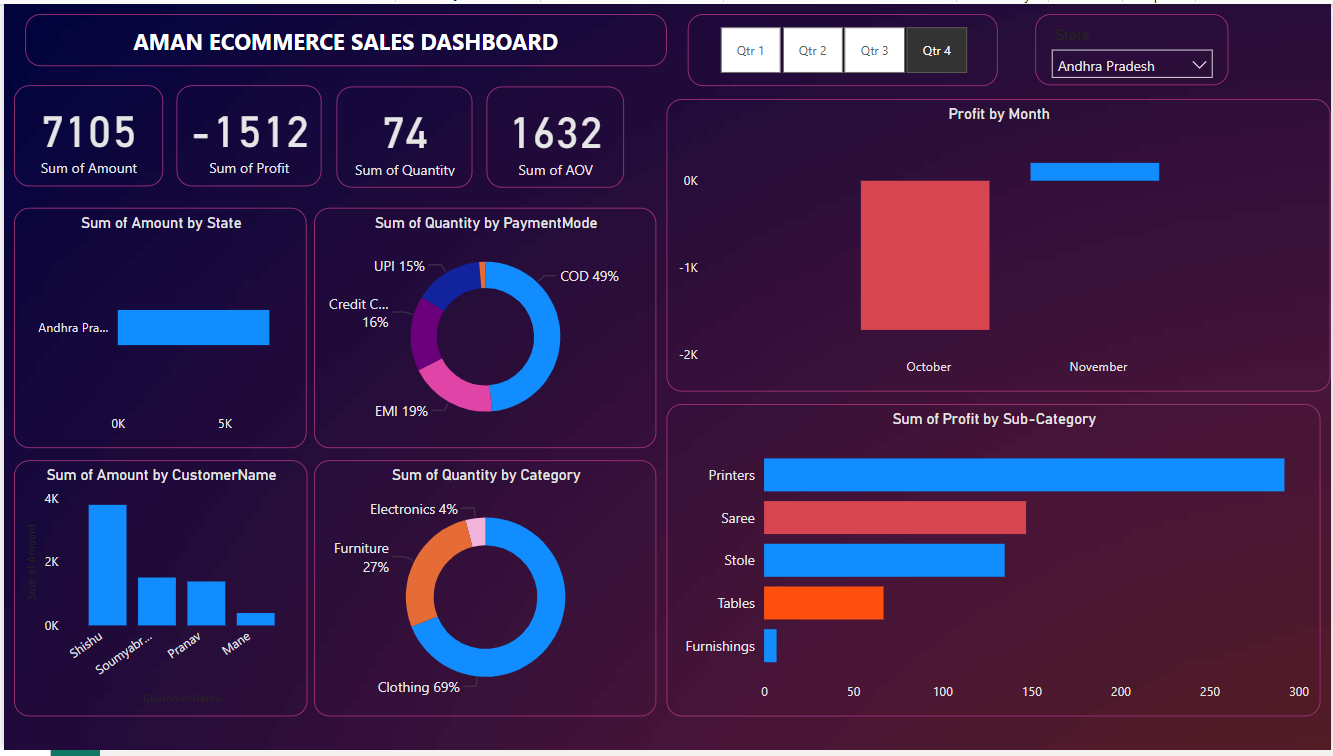

The page's visual inventory and layout, read from the dashboard file:
{"tool":"powerbi","page":{"name":"Page 1","canvas":[1280,720],"ordinal":0},"visuals":[{"type":"textbox","box":[20.6,9.6,618.9,50.8],"z":0},{"type":"columnChart","title":"Profit by Month","fields":{"Y":["Details.Profit"],"Category":["Orders.Order Date.Variation.Date Hierarchy.Month"]},"box":[639.4,91.7,640.6,282.3],"z":1},{"type":"barChart","fields":{"Category":["Details.Sub-Category"],"Y":["Details.Profit"]},"box":[639.4,386.1,631,318.5],"z":2},{"type":"donutChart","fields":{"Category":["Details.Category"],"Y":["Details.Quantity"]},"box":[299.1,440.5,330.7,247],"z":3},{"type":"donutChart","fields":{"Y":["Details.Quantity"],"Category":["Details.PaymentMode"]},"box":[299.1,196.2,330.7,215.4],"z":4},{"type":"card","fields":{"Values":["Details.Amount"]},"box":[9.6,78.2,144.1,97.4],"z":5},{"type":"card","fields":{"Values":["Details.Profit"]},"box":[166,78.2,140,97.4],"z":6},{"type":"card","fields":{"Values":["Details.Quantity"]},"box":[330.7,78.2,131.7,97.4],"z":7},{"type":"card","fields":{"Values":["Details.AOV"]},"box":[465.2,79.6,133.1,97.4],"z":8},{"type":"barChart","fields":{"Y":["Details.Amount"],"Category":["Orders.State"]},"box":[9.6,196.2,282.7,231.9],"z":9},{"type":"columnChart","fields":{"Category":["Orders.CustomerName"],"Y":["Details.Amount"]},"box":[10,440,283,247],"z":10},{"type":"slicer","fields":{"Values":["Orders.Order Date.Variation.Date Hierarchy.Quarter"]},"box":[660,9.6,299.1,70],"z":11},{"type":"slicer","fields":{"Values":["Orders.State"]},"box":[994.9,9.6,186.6,68.6],"z":12}]}

Visuals, with their boxes in screenshot pixels (x1, y1, x2, y2), scaled from the page's 1280x720 canvas onto the 1333x756 screenshot:
textbox: detection(21, 10, 666, 63)
"Profit by Month" columnChart: detection(666, 96, 1332, 393)
barChart - Details.Sub-Category x Details.Profit: detection(666, 405, 1323, 740)
donutChart - Details.Category x Details.Quantity: detection(311, 463, 656, 722)
donutChart - Details.Quantity x Details.PaymentMode: detection(311, 206, 656, 432)
card - Details.Amount: detection(10, 82, 160, 184)
card - Details.Profit: detection(173, 82, 319, 184)
card - Details.Quantity: detection(344, 82, 482, 184)
card - Details.AOV: detection(484, 84, 623, 186)
barChart - Details.Amount x Orders.State: detection(10, 206, 304, 450)
columnChart - Orders.CustomerName x Details.Amount: detection(10, 462, 305, 721)
slicer - Orders.Order Date.Variation.Date Hierarchy.Quarter: detection(687, 10, 999, 84)
slicer - Orders.State: detection(1036, 10, 1230, 82)
